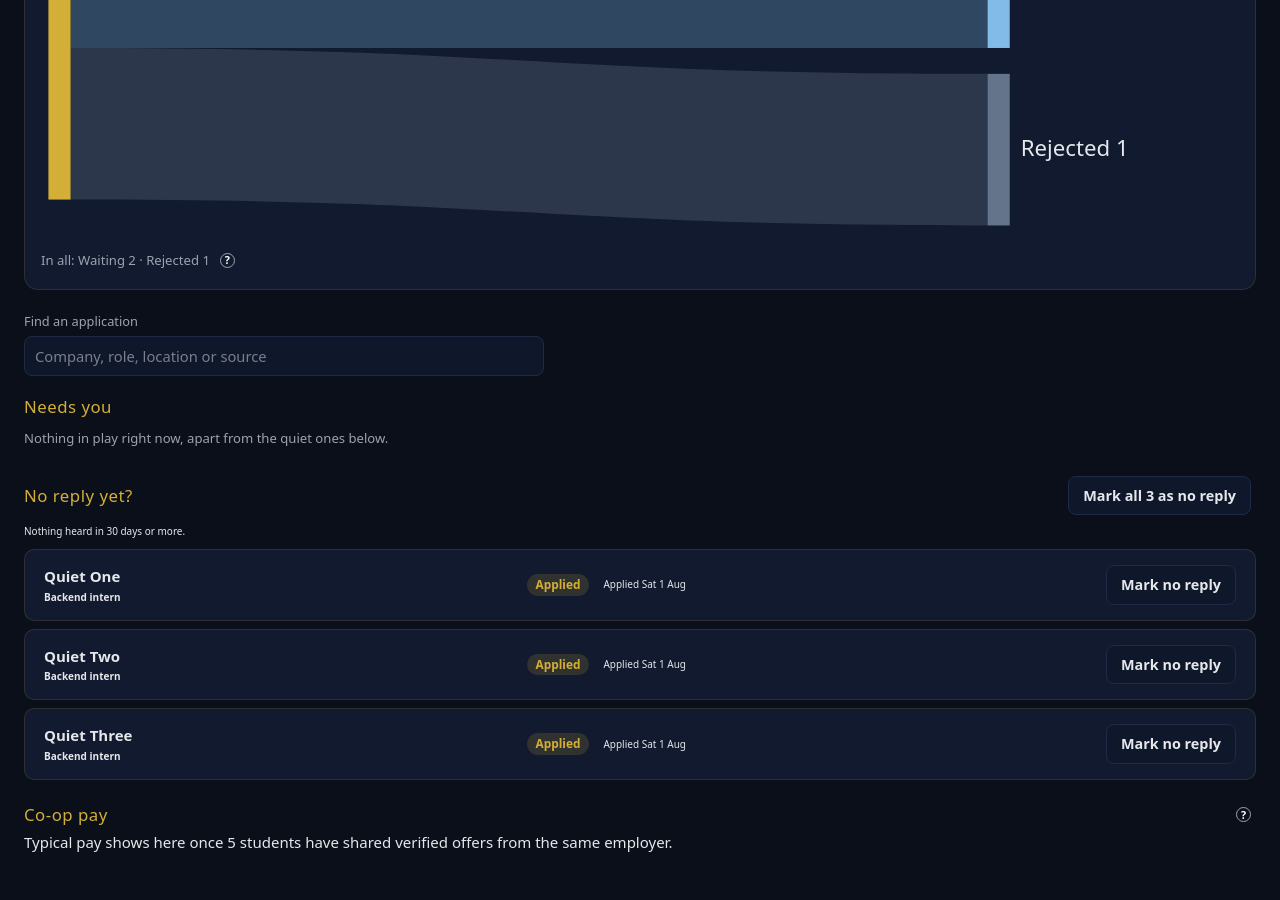
Scenario: marking every quiet one (D9) › asks first, then marks each one no reply
This screenshot has width=1280, height=900.
(page scrolled)
Expected: the text "Quiet One" is shown, [44,565,120,588]
Click the button "Mark all 3 as no reply": (1160,495) [1068,476,1251,515]
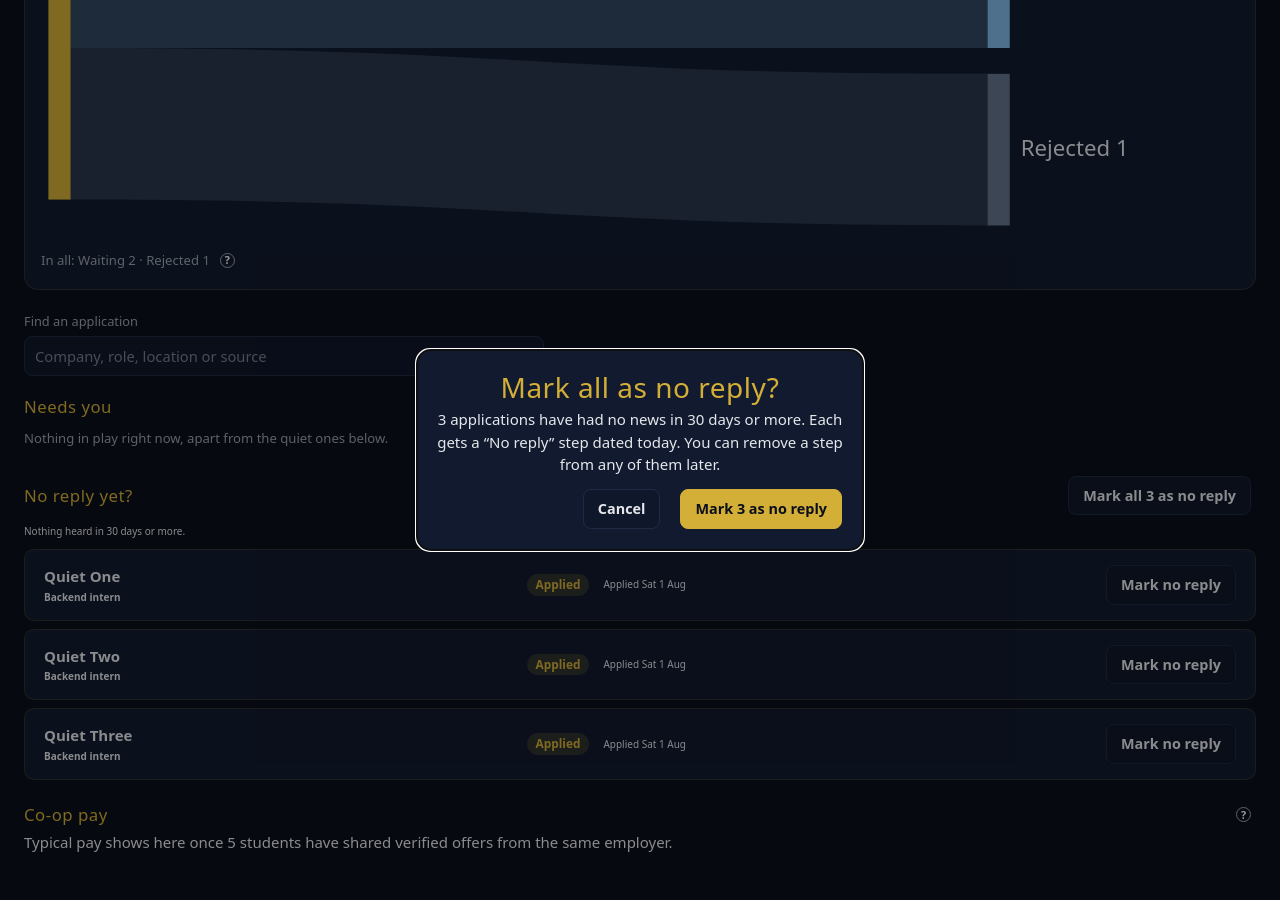
Click the button "Mark 3 as no reply": (761,509) [680,489,842,528]
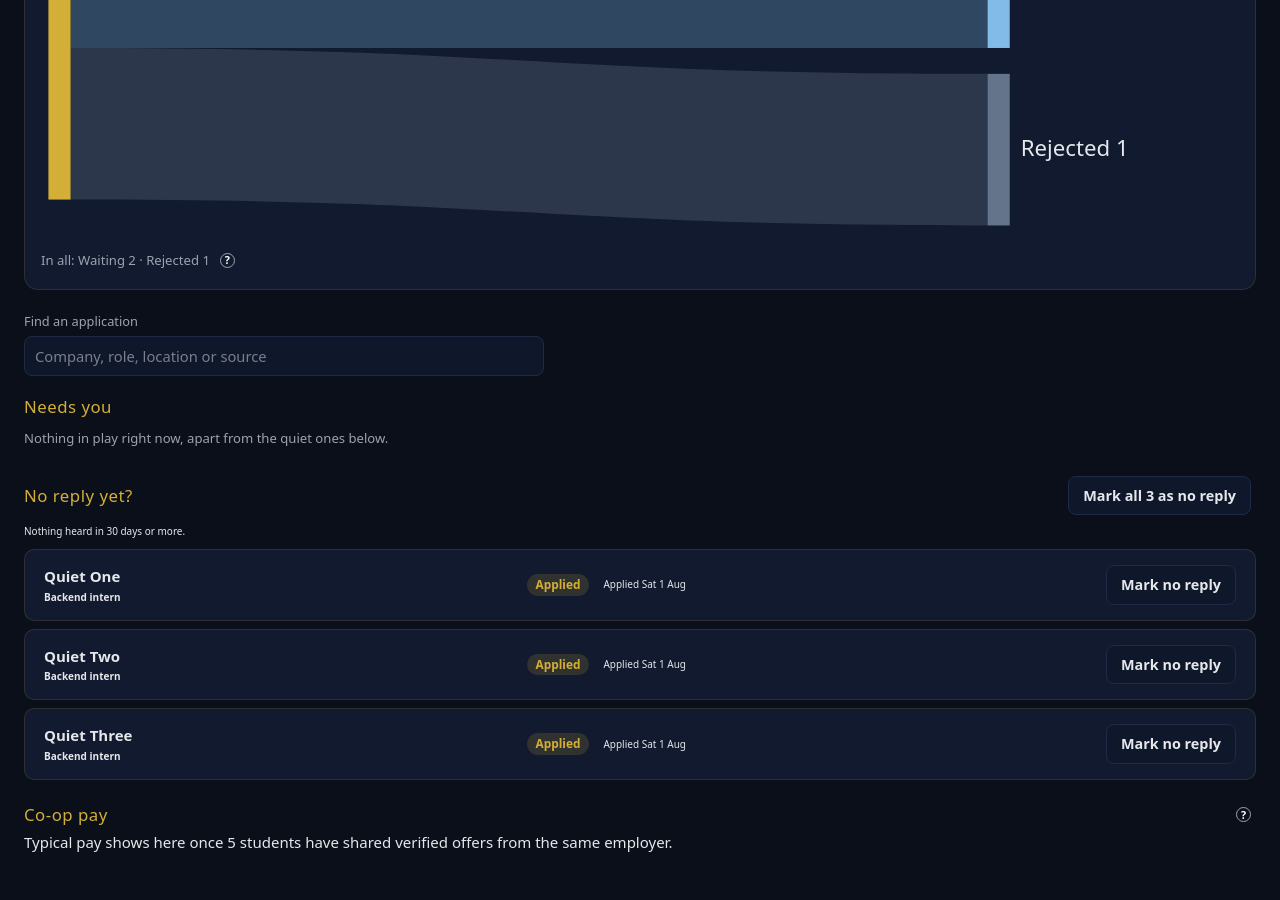
Now the dialog is gone
